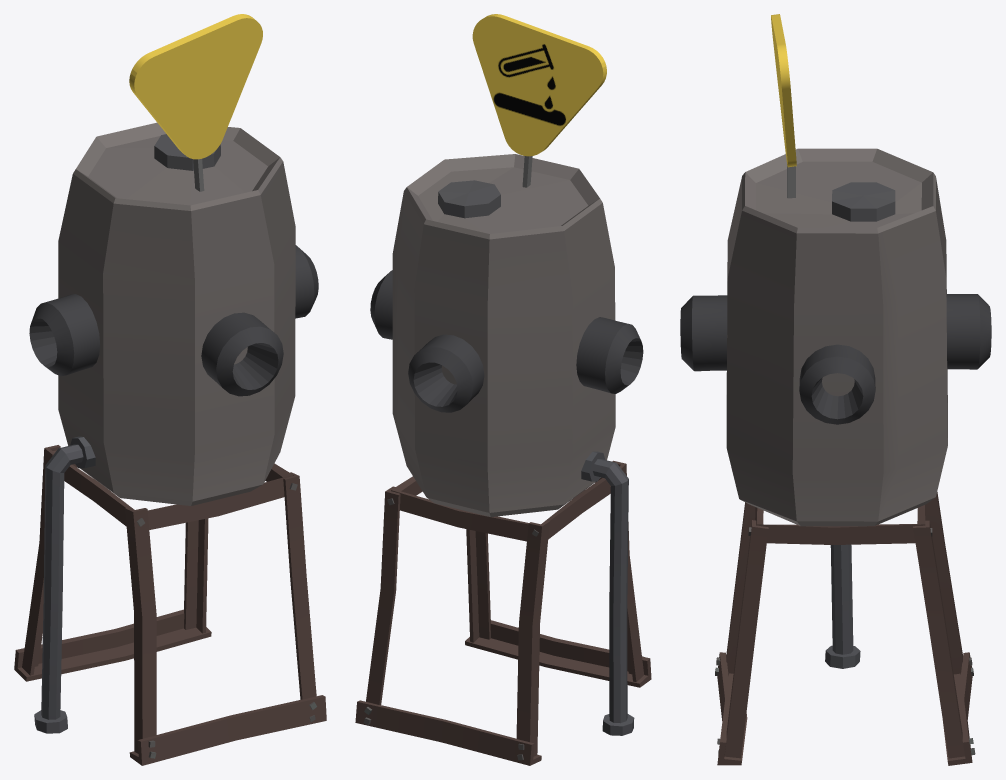
File: watertank2.fbx
3 views of the same model, side by side, from view 1: azimuth 30°, elevation 25°; view 2: azimuth 150°, elevation 25°; view 3: azimuth 270°, elevation 25° (orthographic). The views are drawn at different scales.
Visible parts, largest first — view 1: watertank2; view 2: watertank2; view 3: watertank2.
Part boxes in pixels (bbox=[...]): watertank2: bbox=[14, 14, 326, 765]; watertank2: bbox=[355, 14, 651, 765]; watertank2: bbox=[680, 14, 991, 765].
Bounding box in the file's own units: 38.43 × 95.54 × 38.81.
